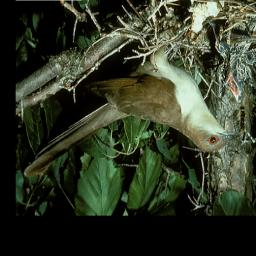Cuckoo: (24, 48, 241, 179)
